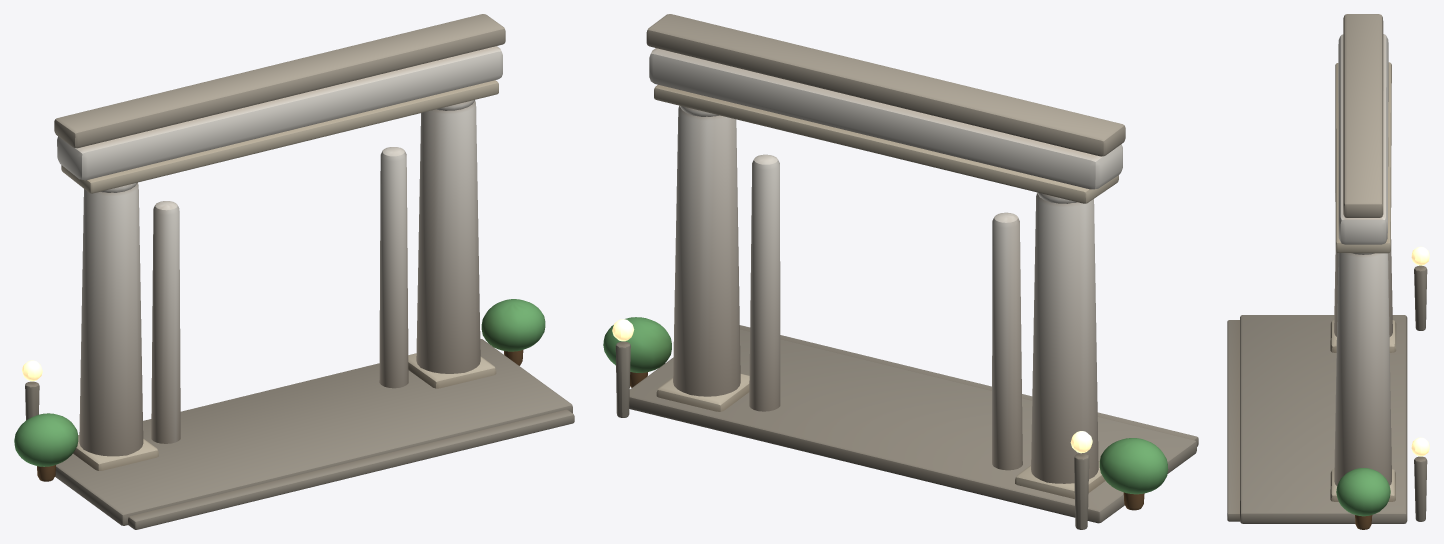
3 views of the same model, side by side, from view 1: azimuth 30°, elevation 25°; view 2: azimuth 150°, elevation 25°; view 3: azimuth 270°, elevation 25° (orthographic). The views are drawn at different scales.
Parts seen in each view (by area): view 1: gate_ad88421d; view 2: gate_ad88421d; view 3: gate_ad88421d.
Boxes of the visible parts, bbox=[...] form: gate_ad88421d: bbox=[14, 14, 574, 529]; gate_ad88421d: bbox=[603, 14, 1198, 529]; gate_ad88421d: bbox=[1227, 14, 1429, 529].
Size of the model in its own units: 6.89 by 4.4 by 2.54.
